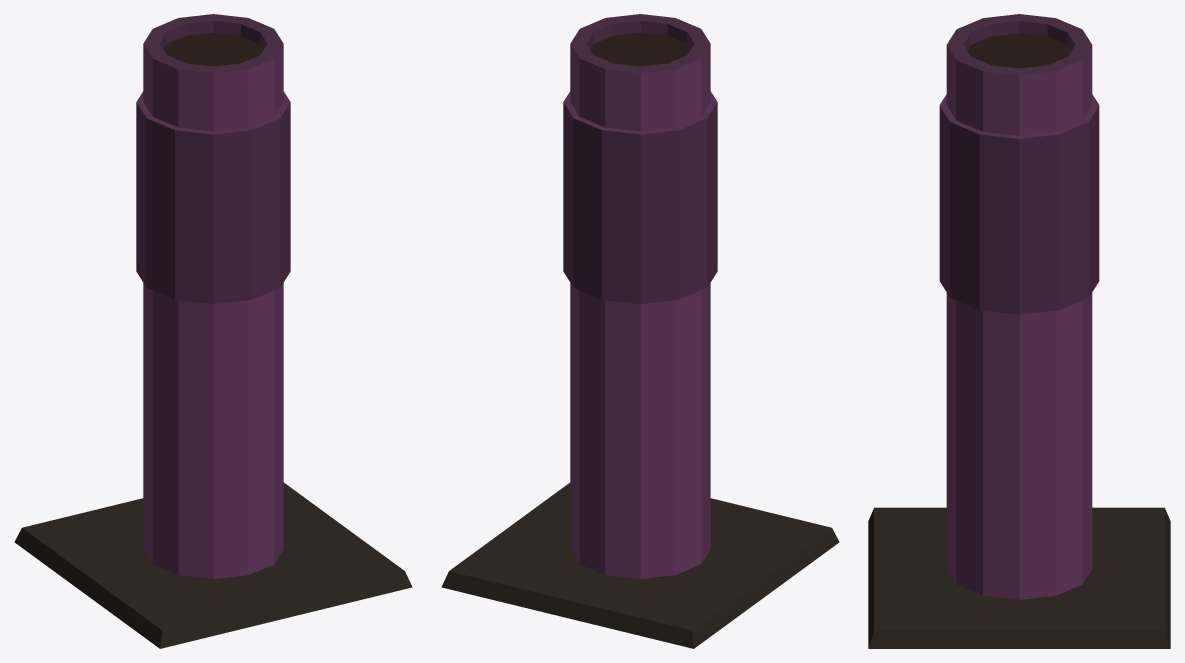
Rendered from Laumania_PreloadedTube_Sample01.fbx.
3 renders of one model, left to right at view 1: azimuth 30°, elevation 25°; view 2: azimuth 150°, elevation 25°; view 3: azimuth 270°, elevation 25°, orthographic. The views are drawn at different scales.
Parts seen in each view (by area): view 1: Laumania_PreloadedTube_Sample01; view 2: Laumania_PreloadedTube_Sample01; view 3: Laumania_PreloadedTube_Sample01.
Boxes of the visible parts, x1,y1,x2,y2 form: Laumania_PreloadedTube_Sample01: [14, 14, 412, 648]; Laumania_PreloadedTube_Sample01: [441, 14, 839, 648]; Laumania_PreloadedTube_Sample01: [868, 14, 1170, 648].
Bounding box in the file's own units: 0.2078 × 0.4098 × 0.2078.
